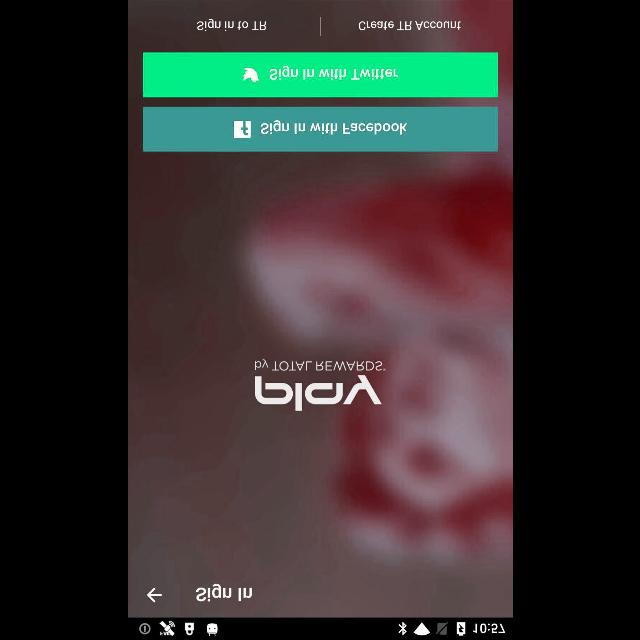icon: (146, 588, 160, 602)
image: (254, 358, 386, 412)
text: (195, 583, 251, 601), (196, 18, 266, 32), (358, 22, 460, 31)
textbutton: (142, 52, 498, 98), (142, 106, 498, 152)
uppertaskbar: (128, 617, 512, 639)
